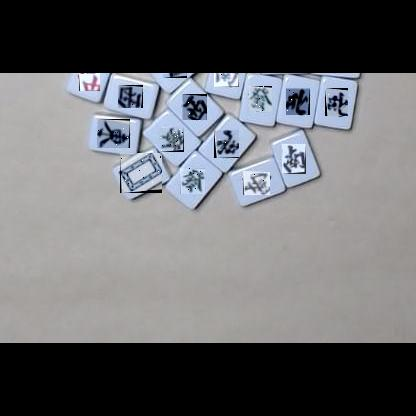1z: (97, 119, 130, 148)
2z: (282, 144, 306, 174), (243, 171, 270, 195), (214, 73, 239, 87)
3z: (182, 94, 207, 120), (118, 85, 143, 108), (163, 73, 187, 78)
4z: (214, 130, 239, 158), (286, 88, 310, 115), (325, 88, 348, 116)
5z: (120, 153, 162, 193)
6z: (180, 168, 205, 194), (160, 127, 184, 152), (249, 86, 272, 111)
7z: (79, 73, 100, 91)
